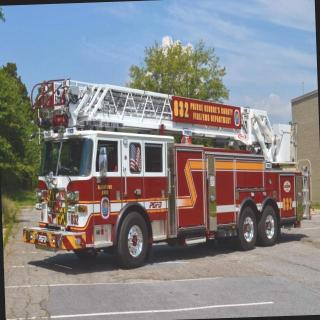Fire_truck: (17, 69, 315, 272)
